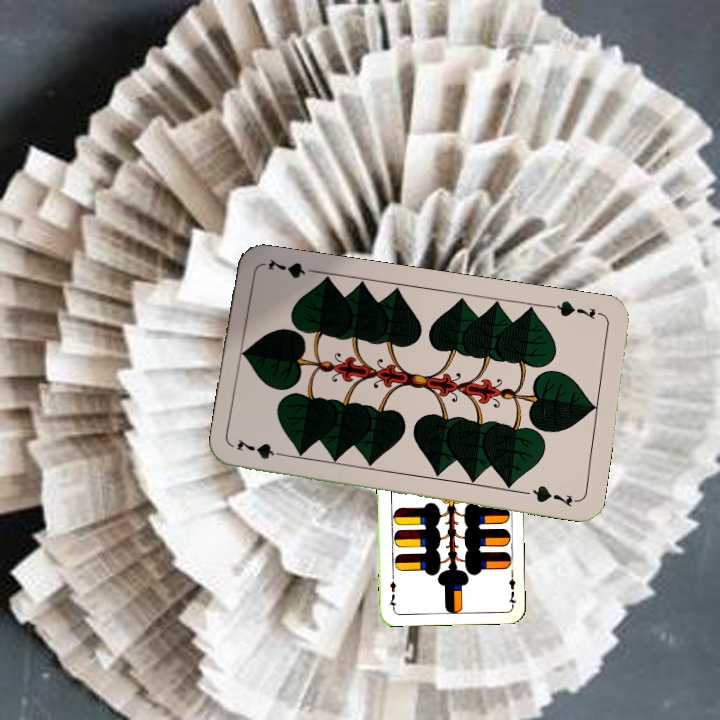E7: (505, 567, 519, 607)
G7: (233, 436, 292, 462), (547, 296, 606, 322)
